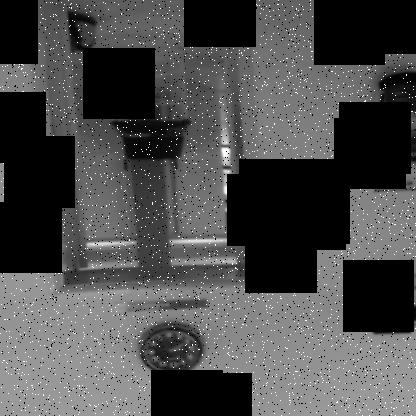Porte: (28, 1, 268, 295)
